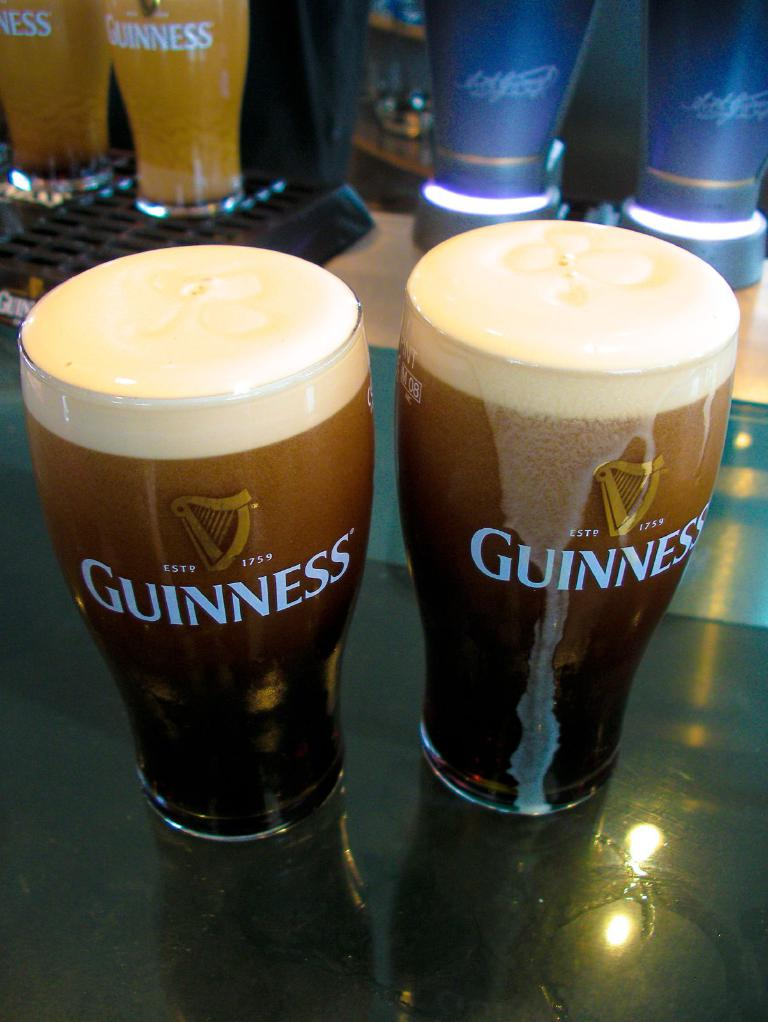Beer: (0, 0, 768, 842)
